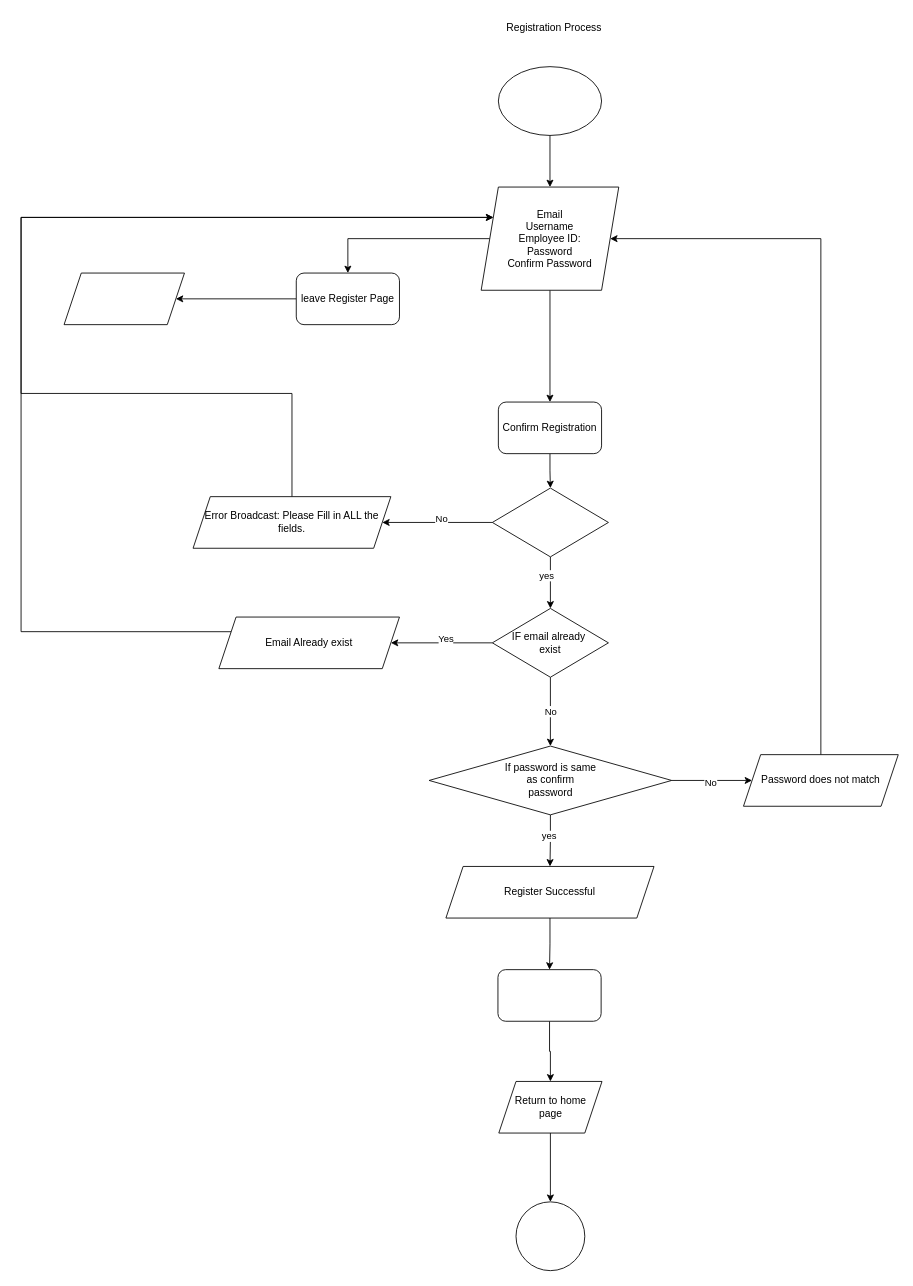
Some shapes in this 913 by 1286 pixel diagram are drawn without their labels. The shapes that lost their labels are listed below. From the top down, each one's box as (x1, y1, x2, y2) in pixels, then its label:
(498, 66, 602, 135): Start
(63, 272, 184, 325): Admin Home Page
(491, 487, 608, 557): All fields filled in
(497, 969, 601, 1021): Write into Text file
(515, 1201, 585, 1271): End
